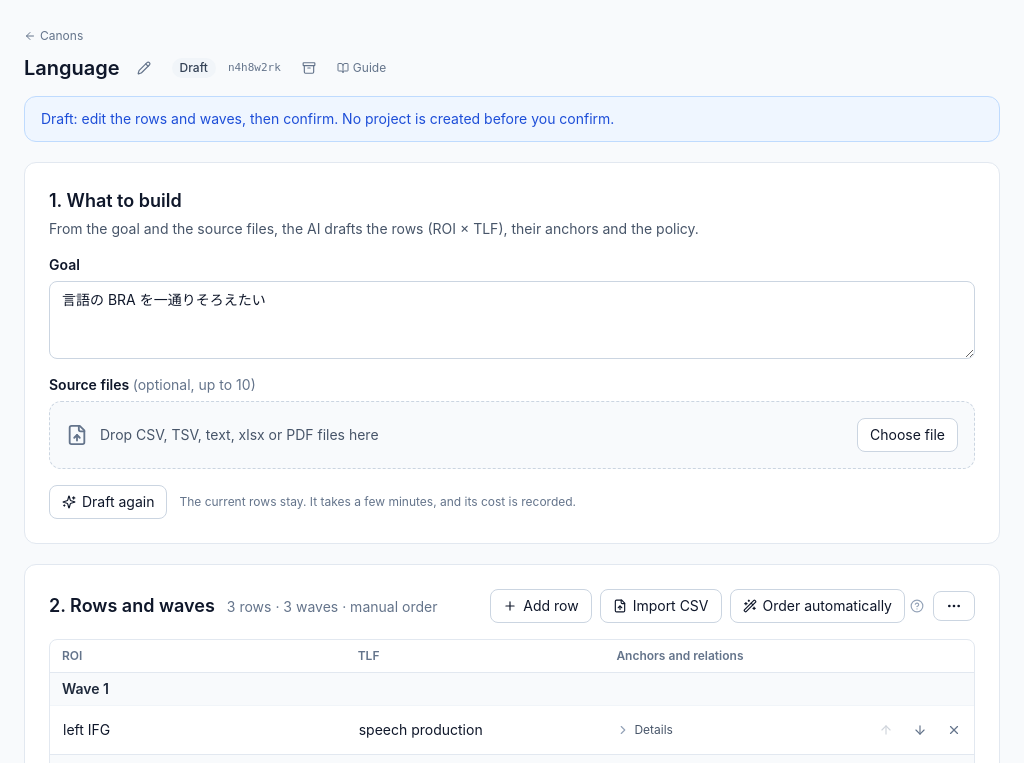
Scenario: the draft page › splits the rows into waves of the concurrency from “More actions”
Step 1. Click the button named "More actions" → (954, 606), box [933,591,975,621]
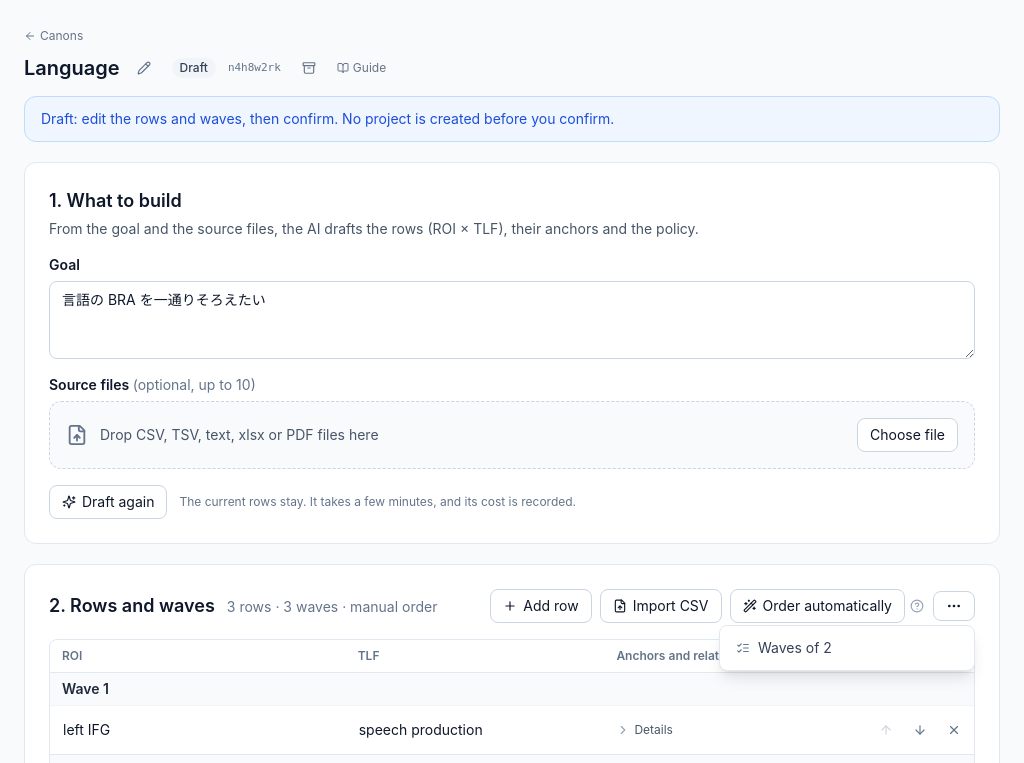
Now the menu item "Waves of 2" is shown
Step 2. Click the menu item "Waves of 2" → (847, 648), box [724,630,970,666]
(page scrolled)
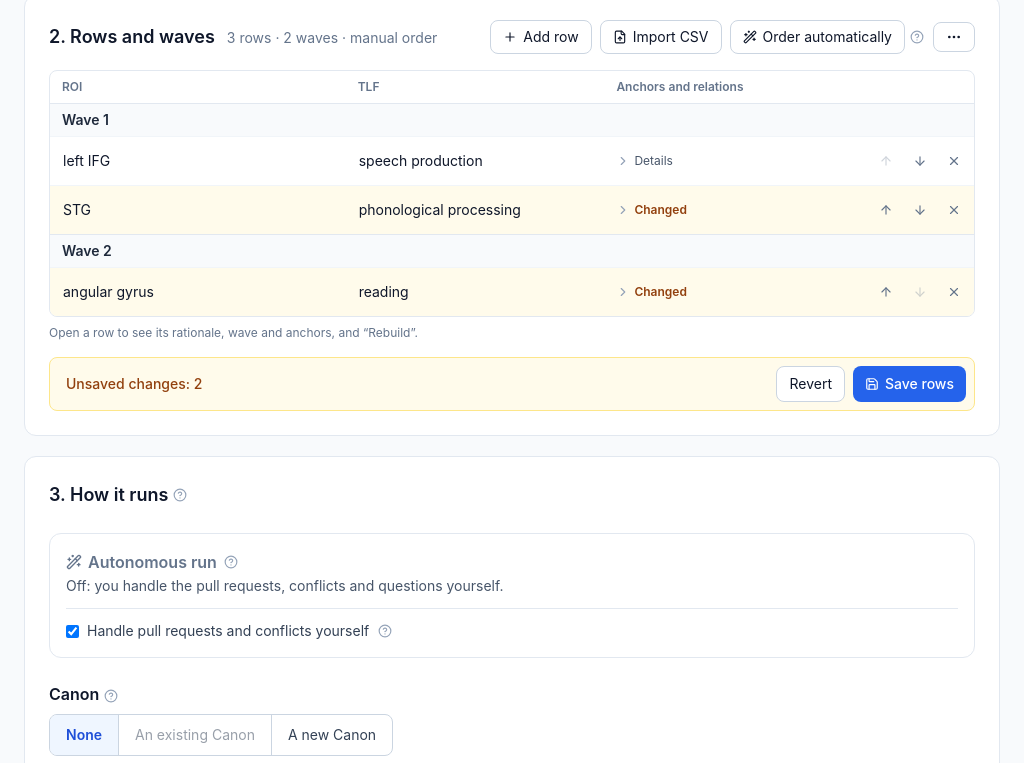
Now the menu is gone
Now the message with test id "plan-save-bar" shows "Unsaved changes: 2", box [66,375,202,392]
